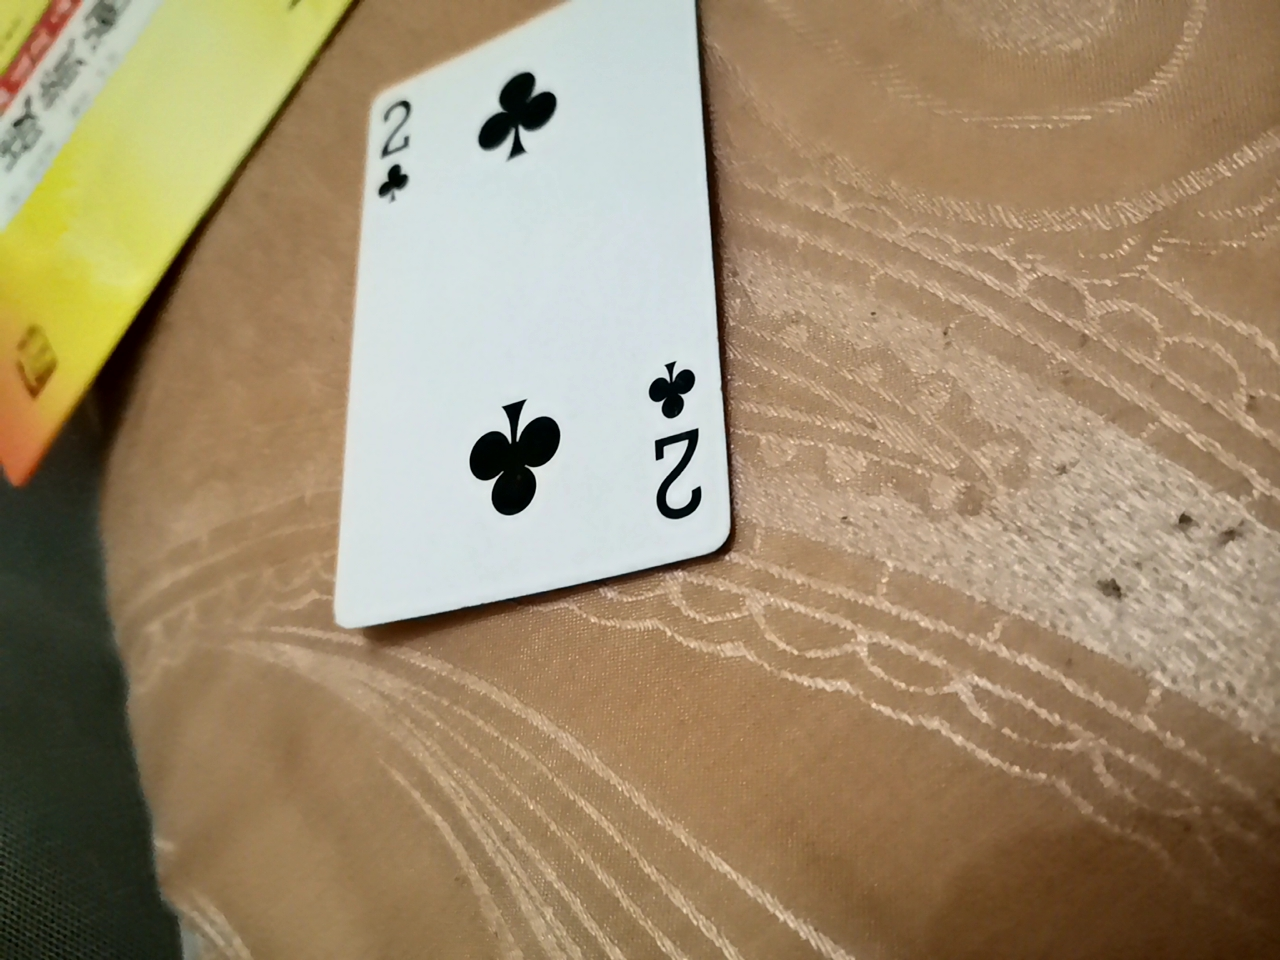mh 2: (338, 12, 715, 638)
